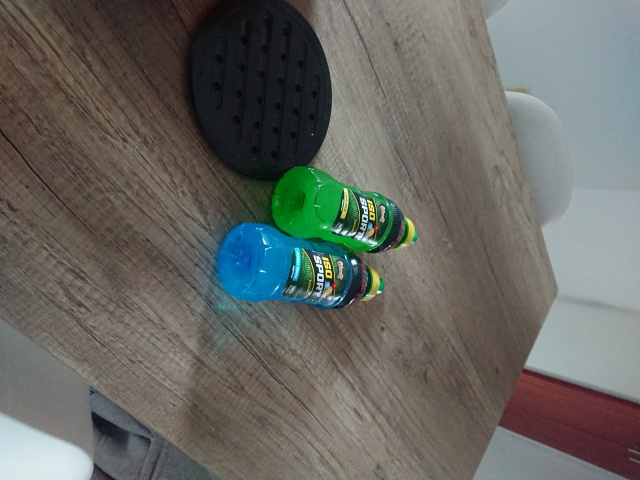Vindi Iso Sport Forest Strawberries 500mL: (216, 220, 386, 312)
Vindi Iso Sport Lemon-Grapefruit 500mL: (269, 163, 420, 255)
